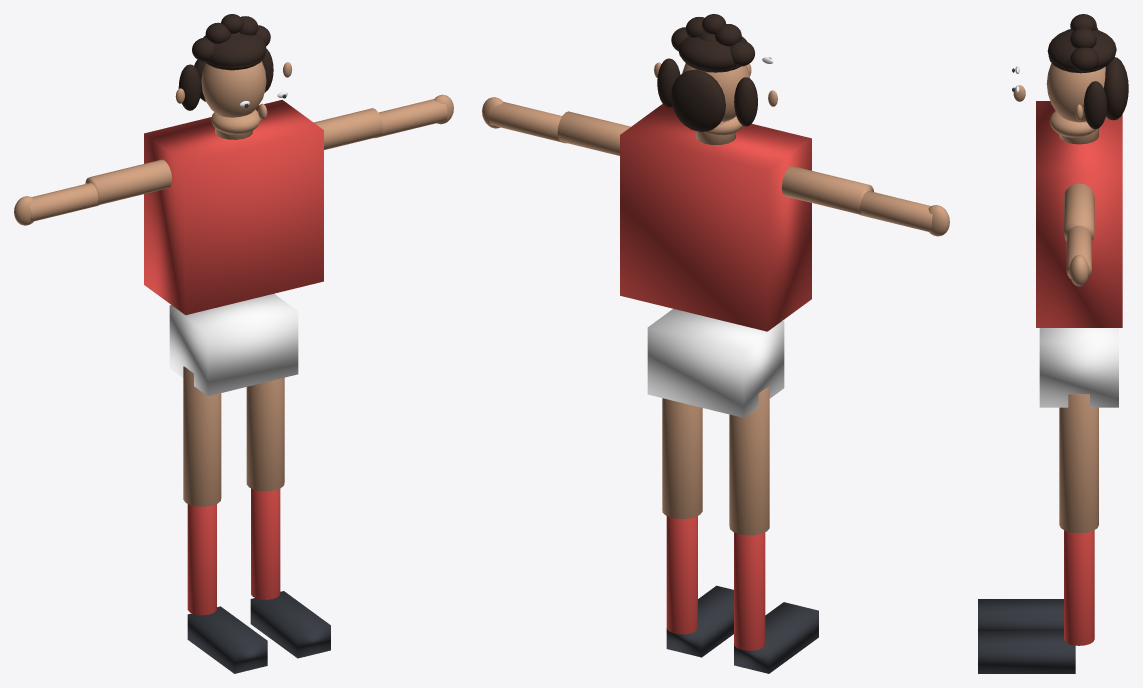
File: player.glb
The picture shows the model from 3 angles, left to right: view 1: azimuth 30°, elevation 25°; view 2: azimuth 150°, elevation 25°; view 3: azimuth 270°, elevation 25°; orthographic projection. The views are drawn at different scales.
Parts seen in each view (by area): view 1: Shirt_Main, Shorts_Main, Thigh_R_Skin, Thigh_L_Skin, Boot_L, Boot_R, Sock_R, Sock_L, Head_Face_Skin, Arm_R_Skin, Arm_L_Skin, Forearm_R_Skin (+6 smaller); view 2: Shirt_Main, Shorts_Main, Thigh_R_Skin, Thigh_L_Skin, Sock_R, Sock_L, Boot_R, Boot_L, Hair_Long_Back, Arm_R_Skin, Arm_L_Skin, Hair_Curly (+6 smaller); view 3: Shirt_Main, Shorts_Main, Thigh_L_Skin, Boot_L, Sock_L, Boot_R, Head_Face_Skin, Hair_Curly, Arm_L_Skin, Hair_Long_Back, Hair_Long_Crown, Forearm_L_Skin (+5 smaller).
Part boxes in pixels (left/top/right/bottom): Shirt_Main: left=144, top=99, right=323, bottom=315; Shorts_Main: left=169, top=294, right=298, bottom=396; Thigh_R_Skin: left=183, top=366, right=221, bottom=506; Thigh_L_Skin: left=246, top=377, right=284, bottom=491; Boot_L: left=250, top=591, right=330, bottom=658; Boot_R: left=187, top=606, right=267, bottom=673; Sock_R: left=187, top=504, right=216, bottom=615; Sock_L: left=251, top=488, right=280, bottom=599; Head_Face_Skin: left=201, top=61, right=266, bottom=117; Arm_R_Skin: left=85, top=159, right=171, bottom=204; Arm_L_Skin: left=314, top=108, right=382, bottom=149; Forearm_R_Skin: left=30, top=183, right=99, bottom=221; Shirt_Main: left=620, top=104, right=811, bottom=331; Shorts_Main: left=647, top=308, right=784, bottom=417; Thigh_R_Skin: left=729, top=386, right=769, bottom=535; Thigh_L_Skin: left=662, top=398, right=702, bottom=518; Sock_R: left=734, top=532, right=765, bottom=650; Sock_L: left=666, top=516, right=697, bottom=634; Boot_R: left=734, top=602, right=818, bottom=673; Boot_L: left=666, top=585, right=733, bottom=657; Hair_Long_Back: left=671, top=69, right=725, bottom=131; Arm_R_Skin: left=782, top=166, right=873, bottom=214; Arm_L_Skin: left=557, top=111, right=630, bottom=155; Hair_Curly: left=671, top=14, right=755, bottom=66; Shirt_Main: left=1036, top=101, right=1122, bottom=327; Shorts_Main: left=1039, top=328, right=1118, bottom=407; Thigh_L_Skin: left=1059, top=394, right=1098, bottom=533; Boot_L: left=978, top=631, right=1075, bottom=673; Sock_L: left=1064, top=530, right=1094, bottom=645; Boot_R: left=978, top=599, right=1063, bottom=630; Head_Face_Skin: left=1046, top=63, right=1105, bottom=122; Hair_Curly: left=1070, top=14, right=1099, bottom=71; Arm_L_Skin: left=1064, top=183, right=1094, bottom=240; Hair_Long_Back: left=1104, top=57, right=1128, bottom=120; Hair_Long_Crown: left=1053, top=29, right=1116, bottom=67; Forearm_L_Skin: left=1066, top=225, right=1091, bottom=278.
Bounding box in the file's own units: 1.45 × 1.94 × 0.4175.
